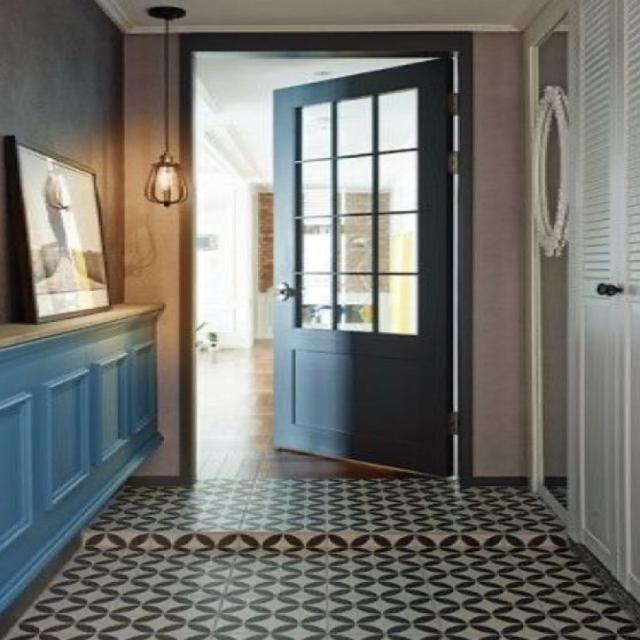door: (270, 55, 454, 478)
